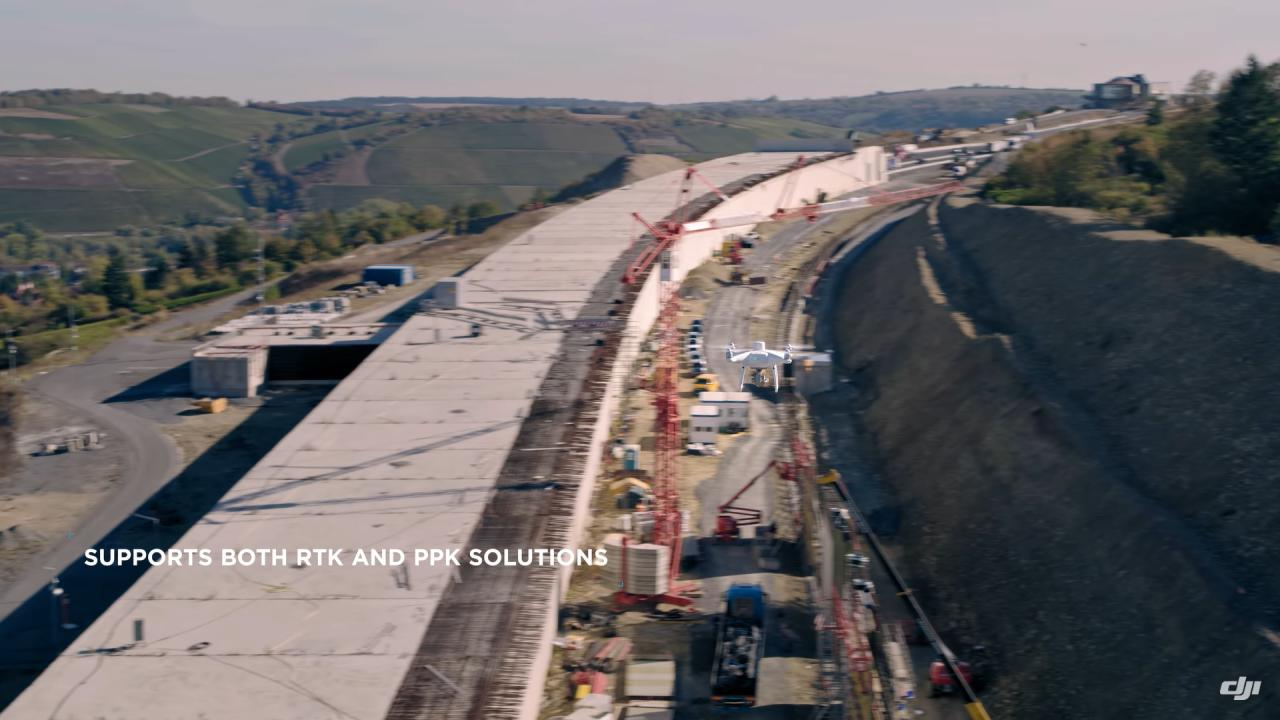Drone: (700, 331, 824, 399)
